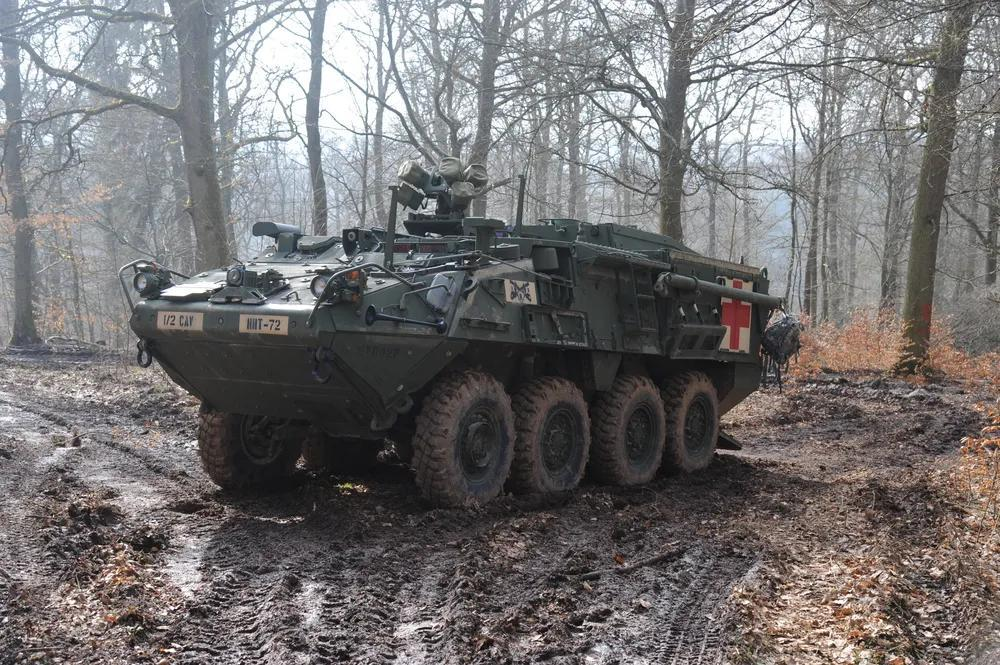MIL_IFV: (123, 156, 806, 512)
